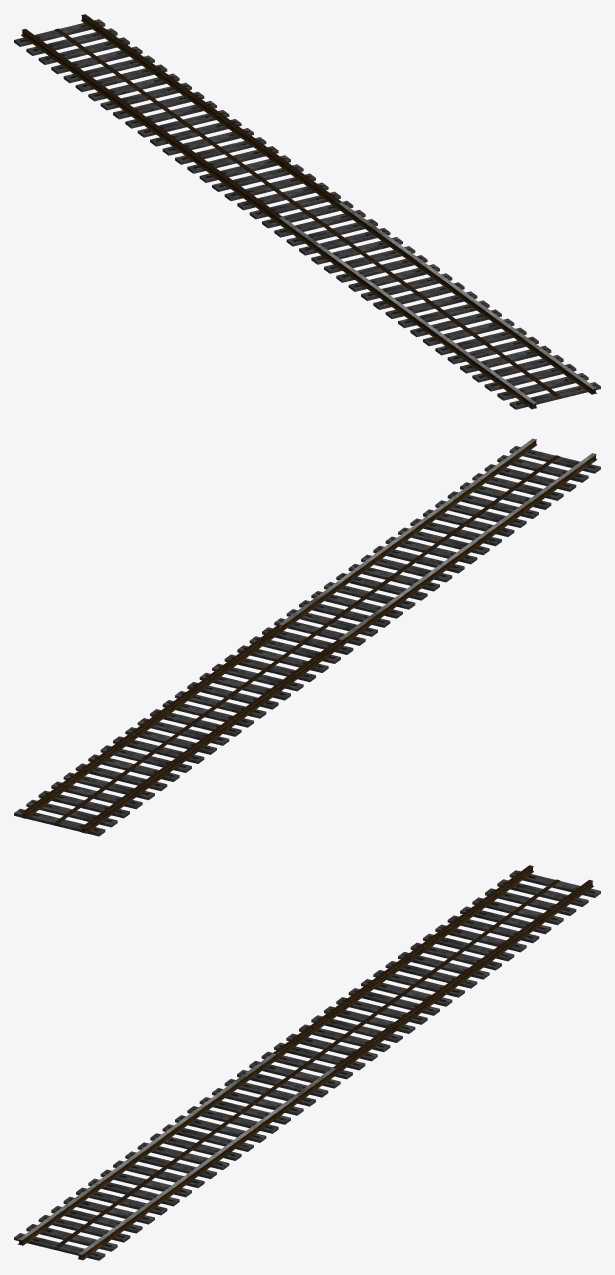
The model's file is F_Metro_Rails.fbx.
The picture shows the model from 3 angles, top to bottom: view 1: azimuth 30°, elevation 25°; view 2: azimuth 150°, elevation 25°; view 3: azimuth 330°, elevation 25°; orthographic projection.
Parts seen in each view (by area): view 1: Box006.001; view 2: Box006.001; view 3: Box006.001.
Boxes of the visible parts, x1=… form: Box006.001: x1=14, y1=14, x2=600, y2=409; Box006.001: x1=14, y1=438, x2=600, y2=836; Box006.001: x1=14, y1=865, x2=600, y2=1260.
Size of the model in its own units: 2.28 by 0.2046 by 23.68.
